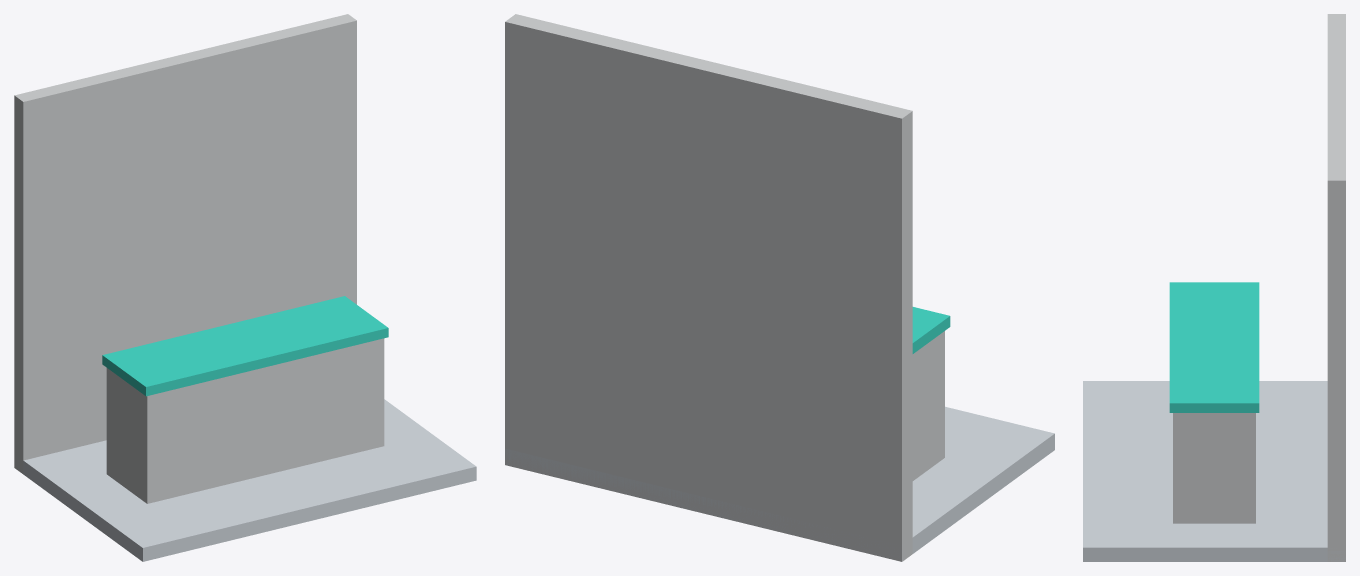
3 renders of one model, left to right at view 1: azimuth 30°, elevation 25°; view 2: azimuth 150°, elevation 25°; view 3: azimuth 270°, elevation 25°, orthographic. The views are drawn at different scales.
Parts seen in each view (by area): view 1: Exhibition Booth Concept; view 2: Exhibition Booth Concept; view 3: Exhibition Booth Concept.
Boxes of the visible parts, x1,y1,x2,y2 form: Exhibition Booth Concept: (14,14,476,561); Exhibition Booth Concept: (505,14,1054,561); Exhibition Booth Concept: (1083,14,1345,561).
Size of the model in its own units: 3 by 3.2 by 2.
